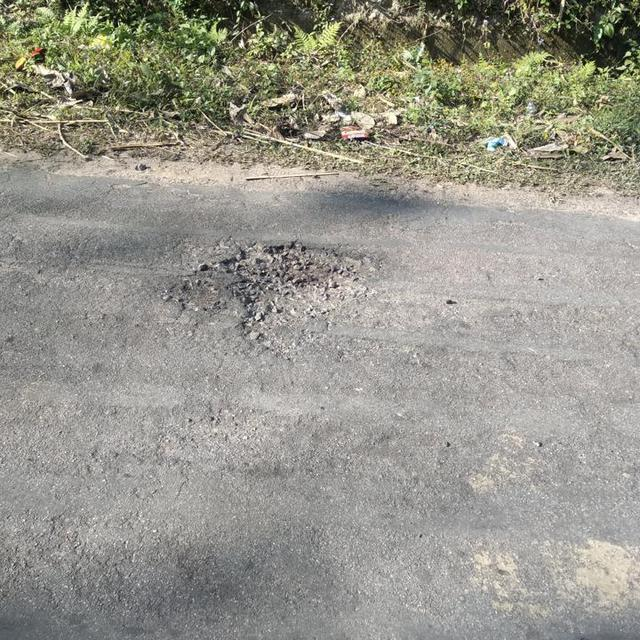Pothole: (208, 241, 385, 344)
